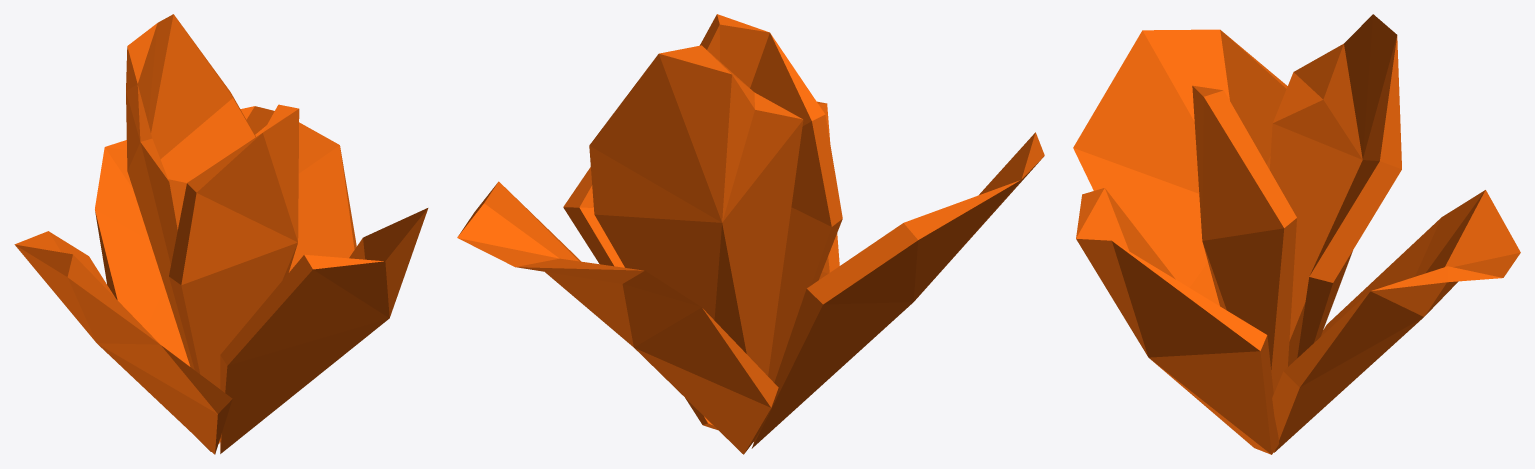
File: salad-young-b.fbx
The picture shows the model from 3 angles, left to right: view 1: azimuth 30°, elevation 25°; view 2: azimuth 150°, elevation 25°; view 3: azimuth 270°, elevation 25°; orthographic projection. The views are drawn at different scales.
Parts seen in each view (by area): view 1: salad-young-b; view 2: salad-young-b; view 3: salad-young-b.
Part boxes in pixels (x1=…): salad-young-b: x1=14, y1=14, x2=428, y2=454; salad-young-b: x1=457, y1=14, x2=1044, y2=454; salad-young-b: x1=1073, y1=14, x2=1520, y2=454.
Size of the model in its own units: 270 by 261 by 243.
